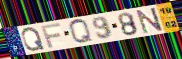8: (117, 12, 139, 37)
9: (92, 16, 114, 40)
F: (40, 22, 62, 49)
N: (135, 6, 165, 35)
Q: (68, 18, 95, 45), (21, 26, 46, 52)
